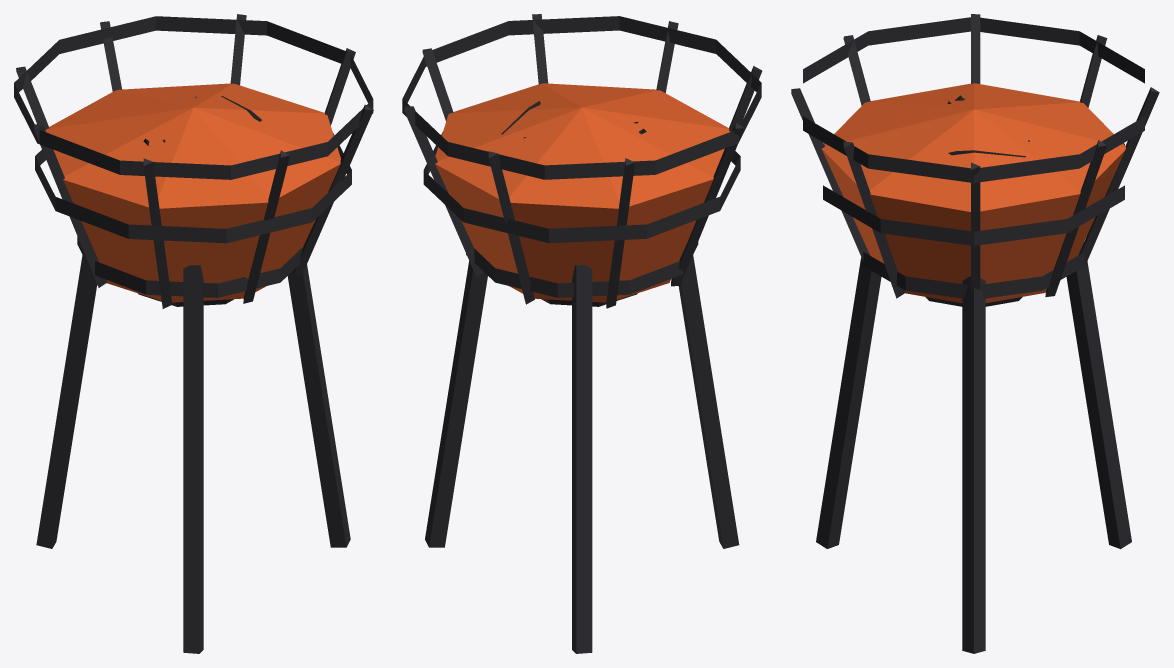
The model's file is Brazier.fbx.
3 renders of one model, left to right at view 1: azimuth 30°, elevation 25°; view 2: azimuth 150°, elevation 25°; view 3: azimuth 270°, elevation 25°, orthographic.
Parts seen in each view (by area): view 1: Brazier; view 2: Brazier; view 3: Brazier.
Boxes of the visible parts, x1=… form: Brazier: x1=14, y1=14, x2=373, y2=653; Brazier: x1=402, y1=14, x2=762, y2=653; Brazier: x1=791, y1=14, x2=1159, y2=653.
Bounding box in the file's own units: 0.6994 × 1.03 × 0.6968.
